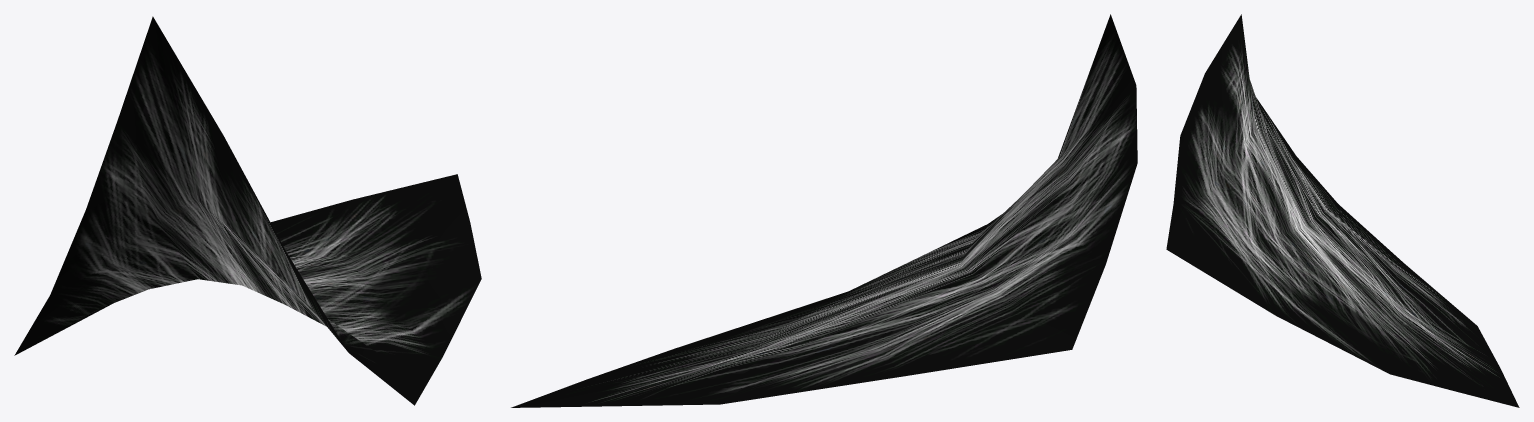
Rendered from SWORDLIGHT20_PS-AREA01_CORNERWEB21.fbx.
The picture shows the model from 3 angles, left to right: view 1: azimuth 30°, elevation 25°; view 2: azimuth 150°, elevation 25°; view 3: azimuth 270°, elevation 25°; orthographic projection. The views are drawn at different scales.
Parts seen in each view (by area): view 1: SWORDLIGHT20_PS-AREA01_CORNERWEB21; view 2: SWORDLIGHT20_PS-AREA01_CORNERWEB21; view 3: SWORDLIGHT20_PS-AREA01_CORNERWEB21.
Part boxes in pixels (x1=…): SWORDLIGHT20_PS-AREA01_CORNERWEB21: x1=14, y1=16, x2=481, y2=405; SWORDLIGHT20_PS-AREA01_CORNERWEB21: x1=511, y1=14, x2=1137, y2=407; SWORDLIGHT20_PS-AREA01_CORNERWEB21: x1=1166, y1=14, x2=1519, y2=407.
Size of the model in its own units: 45467 by 34424 by 43762.
Materials: 1 (1 with a texture image).
